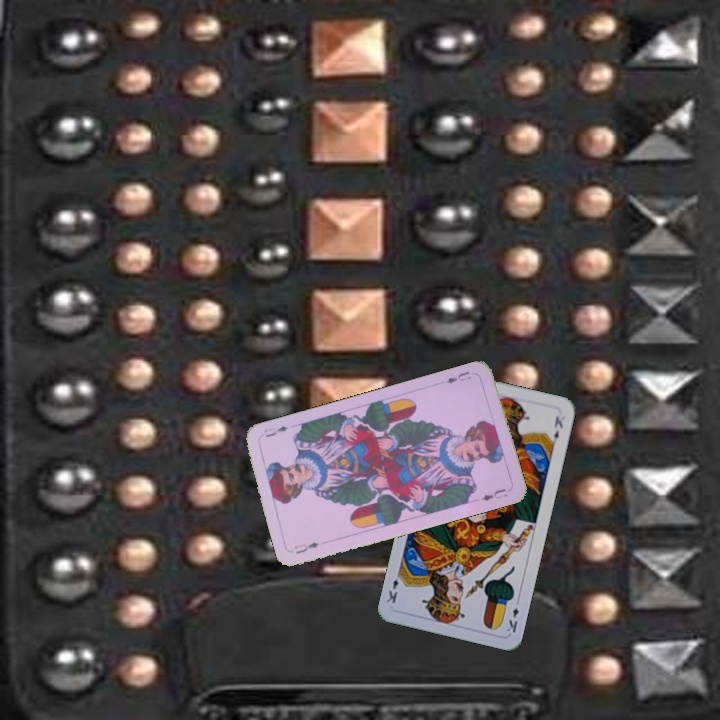EK: (503, 595, 522, 635)
EU: (442, 367, 474, 386), (290, 538, 321, 556)
